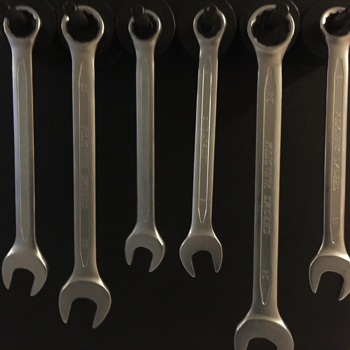bottom: (55, 275, 115, 330), (0, 243, 50, 300), (230, 311, 295, 350), (306, 249, 350, 304), (177, 229, 225, 279), (120, 227, 168, 275)
top: (244, 1, 296, 54), (58, 4, 106, 48), (1, 3, 43, 48), (190, 6, 228, 47), (125, 8, 163, 48), (318, 4, 350, 46)
